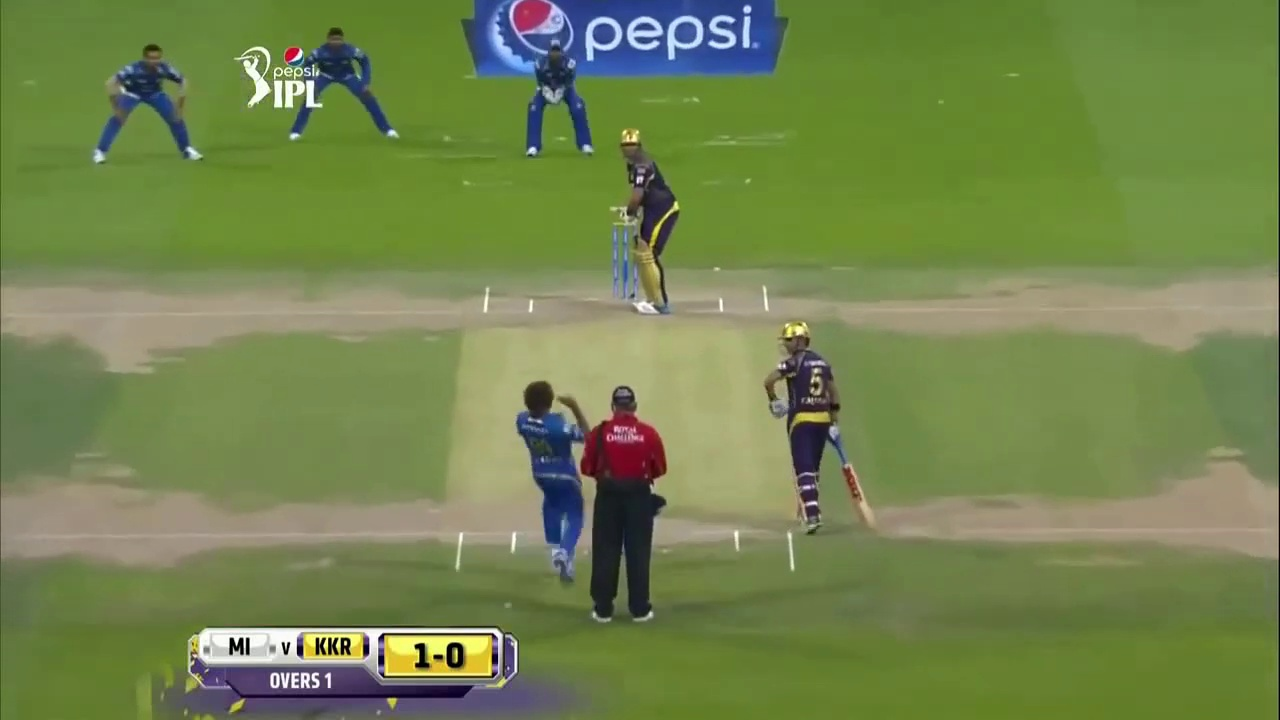bat: (835, 441, 889, 536)
